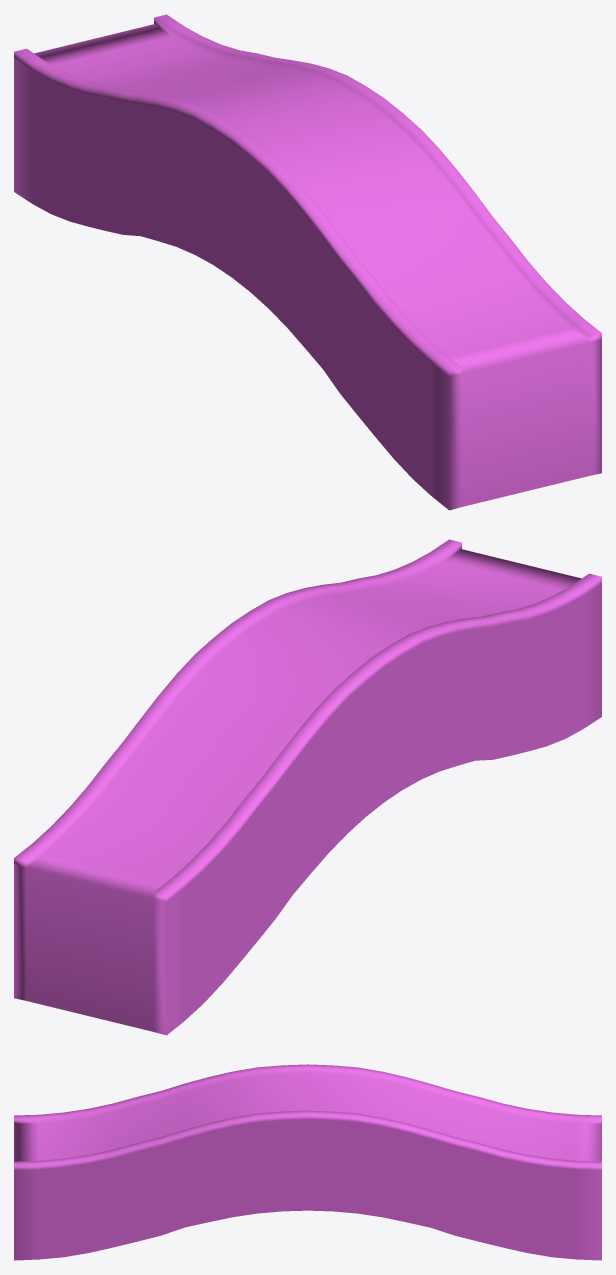
The model's file is RD_Hump_Bridge1.fbx.
The picture shows the model from 3 angles, top to bottom: view 1: azimuth 30°, elevation 25°; view 2: azimuth 150°, elevation 25°; view 3: azimuth 270°, elevation 25°; orthographic projection. The views are drawn at different scales.
Parts seen in each view (by area): view 1: Mesh; view 2: Mesh; view 3: Mesh.
Boxes of the visible parts, x1=… form: Mesh: x1=14, y1=14, x2=601, y2=510; Mesh: x1=14, y1=539, x2=601, y2=1035; Mesh: x1=14, y1=1064, x2=601, y2=1260.
Size of the model in its own units: 480 by 648 by 2370.
